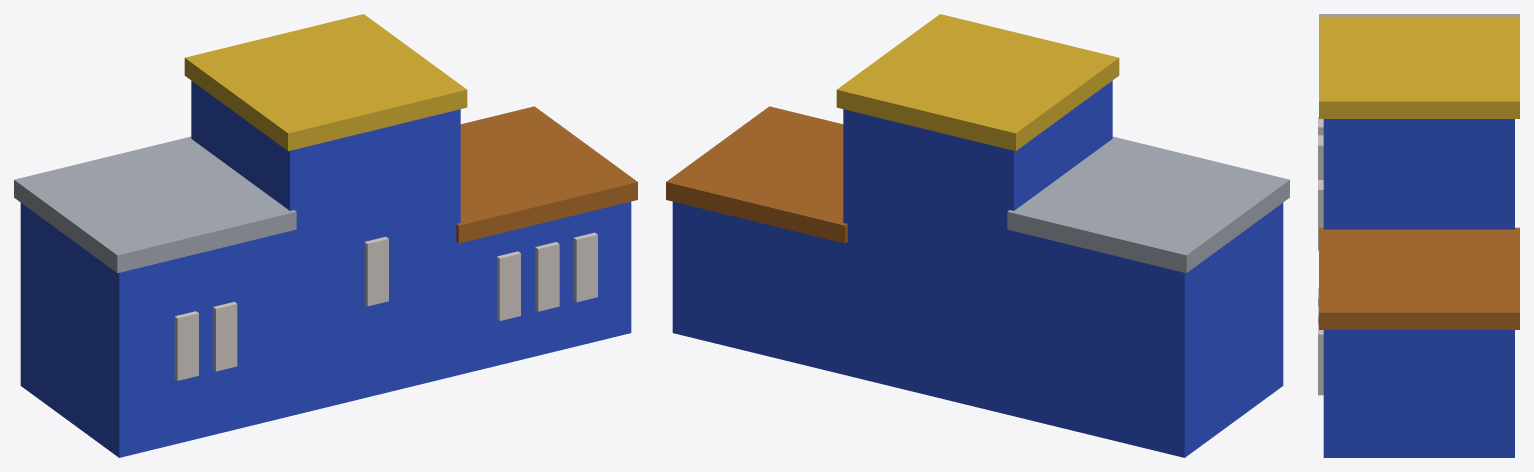
The model's file is finish_podium.glb.
3 views of the same model, side by side, from view 1: azimuth 30°, elevation 25°; view 2: azimuth 150°, elevation 25°; view 3: azimuth 270°, elevation 25° (orthographic). The views are drawn at different scales.
Parts seen in each view (by area): view 1: finish_podium; view 2: finish_podium; view 3: finish_podium.
Part boxes in pixels (left/top/right/bottom): finish_podium: left=14, top=14, right=637, bottom=457; finish_podium: left=666, top=14, right=1289, bottom=457; finish_podium: left=1318, top=14, right=1519, bottom=457.
Bounding box in the file's own units: 1.22 × 0.64 × 0.422.
